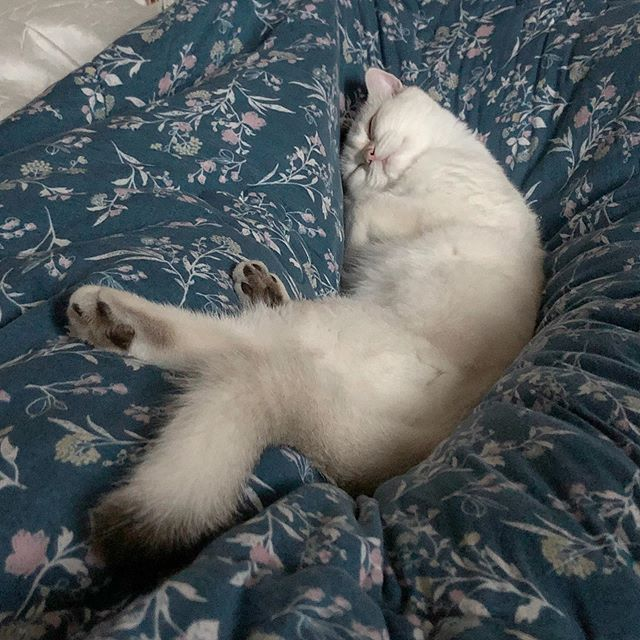cat: (322, 65, 459, 212)
